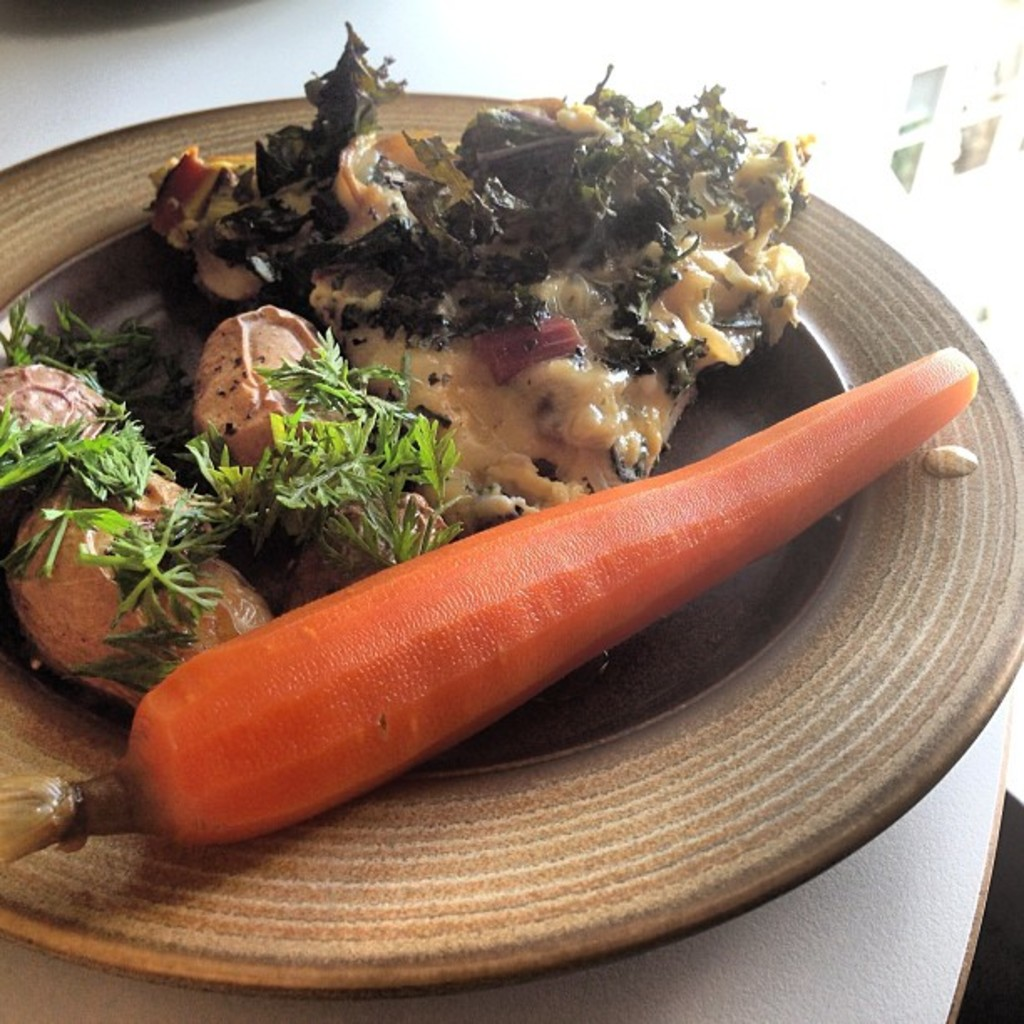Carrot: (36, 356, 955, 849)
